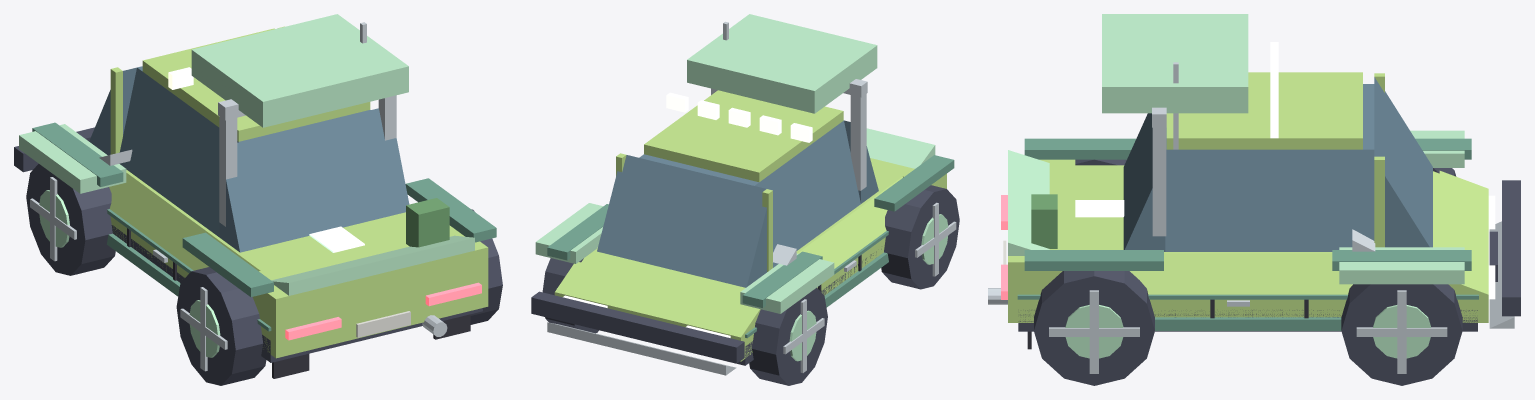
The model's file is pine_rally.glb.
3 views of the same model, side by side, from view 1: azimuth 30°, elevation 25°; view 2: azimuth 150°, elevation 25°; view 3: azimuth 270°, elevation 25° (orthographic). The views are drawn at different scales.
Parts seen in each view (by area): view 1: RearWindow.161, RoofTent.019, CabinSideL.058, Tail.061, Wheel_RL.221, Wheel_FL.221, Body.261, ShoulderL.058, Roof.261, Ducktail.045, BodyUpper.058, Fender-1.054 (+26 smaller); view 2: Windshield.161, RoofTent.019, Roof.261, Nose.058, CabinSideL.058, BashBar.054, Wheel_RL.221, Wheel_FL.221, ShoulderL.058, Bumper.257, Fender-1.054, Arch-1True.137 (+26 smaller); view 3: CabinSideR.058, RoofTent.019, Roof.261, Wheel_RR.221, ShoulderR.058, Wheel_FR.221, Windshield.161, Nose.058, Body.261, BodyUpper.058, RearWindow.161, Tail.061 (+23 smaller).
Boxes of the visible parts, x1,y1,x2,y2 form: RearWindow.161: [219, 108, 409, 252]; RoofTent.019: [191, 14, 408, 127]; CabinSideL.058: [119, 68, 238, 237]; Tail.061: [252, 225, 488, 330]; Wheel_RL.221: [176, 267, 266, 385]; Wheel_FL.221: [26, 164, 115, 275]; Body.261: [110, 216, 488, 358]; ShoulderL.058: [109, 173, 260, 271]; Roof.261: [142, 28, 370, 141]; Ducktail.045: [271, 235, 474, 295]; BodyUpper.058: [126, 169, 405, 270]; Fender-1.054: [19, 124, 126, 193]; Windshield.161: [597, 155, 766, 287]; RoofTent.019: [687, 14, 877, 113]; Roof.261: [644, 90, 843, 182]; Nose.058: [555, 247, 760, 337]; CabinSideL.058: [755, 120, 860, 267]; BashBar.054: [531, 291, 744, 363]; Wheel_RL.221: [881, 185, 959, 289]; Wheel_FL.221: [749, 287, 827, 385]; ShoulderL.058: [797, 176, 902, 268]; Bumper.257: [547, 322, 736, 375]; Fender-1.054: [740, 253, 834, 313]; Arch-1True.137: [874, 155, 954, 211]; CabinSideR.058: [1165, 149, 1374, 251]; RoofTent.019: [1102, 14, 1248, 113]; Roof.261: [1166, 72, 1362, 149]; Wheel_RR.221: [1034, 271, 1154, 385]; ShoulderR.058: [1130, 253, 1352, 294]; Wheel_FR.221: [1341, 284, 1462, 385]; Windshield.161: [1374, 77, 1432, 247]; Nose.058: [1433, 171, 1488, 294]; Body.261: [1008, 294, 1488, 322]; BodyUpper.058: [1075, 165, 1332, 253]; RearWindow.161: [1123, 113, 1165, 251]; Tail.061: [1008, 159, 1075, 294].
Bounding box in the file's own units: 3.16 × 3.04 × 5.1.
